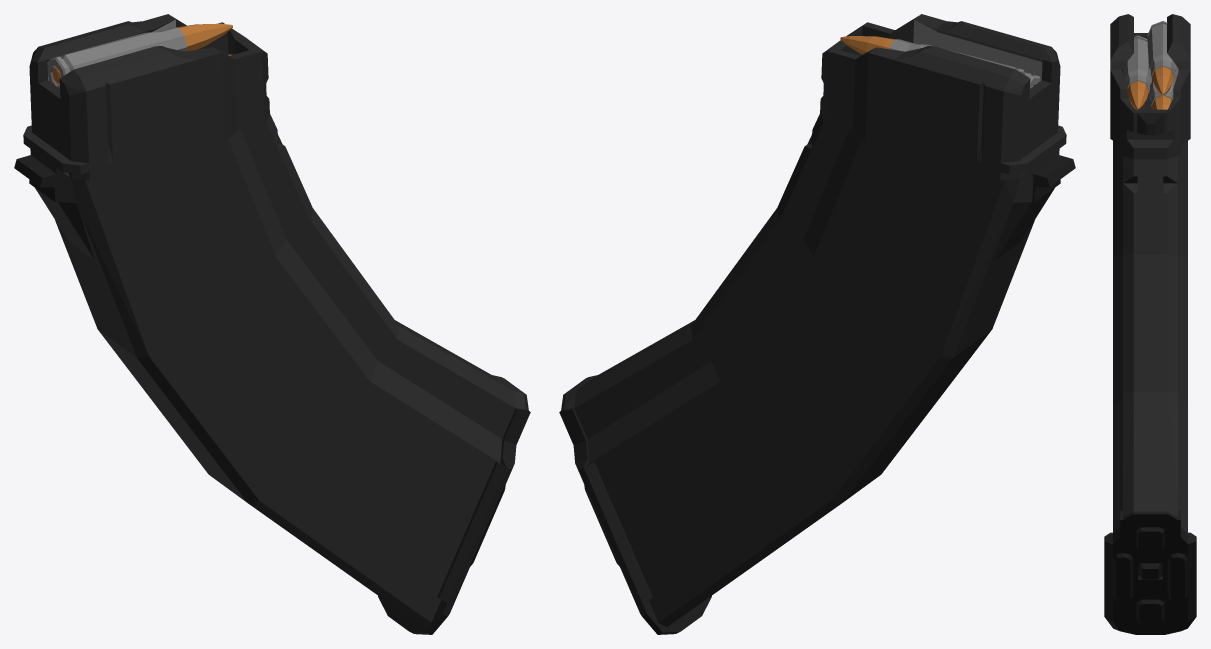
The model's file is ak-104_kochevnik_magazine.glb.
3 renders of one model, left to right at view 1: azimuth 30°, elevation 25°; view 2: azimuth 150°, elevation 25°; view 3: azimuth 270°, elevation 25°, orthographic. The views are drawn at different scales.
Parts seen in each view (by area): view 1: akm 30rnd mag (polymer)_13 (×4); view 2: akm 30rnd mag (polymer)_13 (×3); view 3: akm 30rnd mag (polymer)_13 (×4).
Boxes of the visible parts, x1,y1,x2,y2 form: akm 30rnd mag (polymer)_13 (×4): (14, 14, 530, 634); akm 30rnd mag (polymer)_13 (×3): (559, 14, 1075, 634); akm 30rnd mag (polymer)_13 (×4): (1104, 14, 1196, 634).
Size of the model in its own units: 1.53 by 1.97 by 0.3312.
